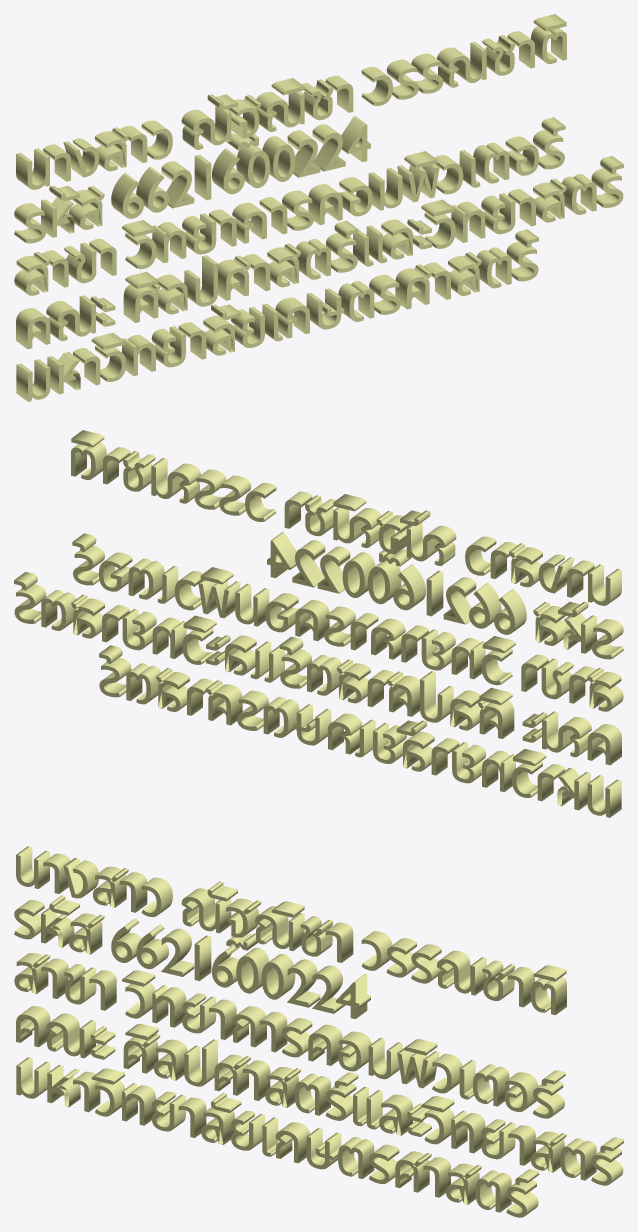
The model's file is name5.glb.
3 renders of one model, top to bottom at view 1: azimuth 30°, elevation 25°; view 2: azimuth 150°, elevation 25°; view 3: azimuth 330°, elevation 25°, orthographic.
Visible parts, largest first — view 1: Text; view 2: Text; view 3: Text.
Boxes of the visible parts, left/top/right/bottom form: Text: left=14, top=14, right=623, bottom=401; Text: left=14, top=430, right=623, bottom=817; Text: left=14, top=846, right=623, bottom=1217.
Size of the model in its own units: 11.88 by 4.79 by 0.4.
